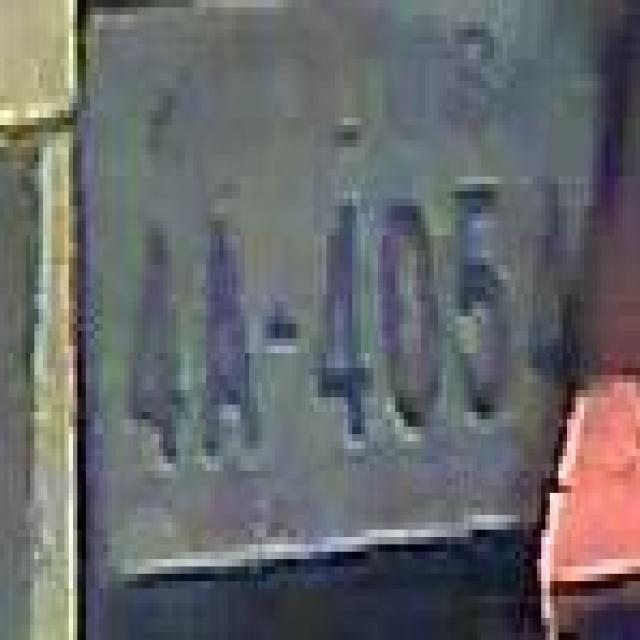Preah_Sihanouk: (181, 15, 499, 171)
